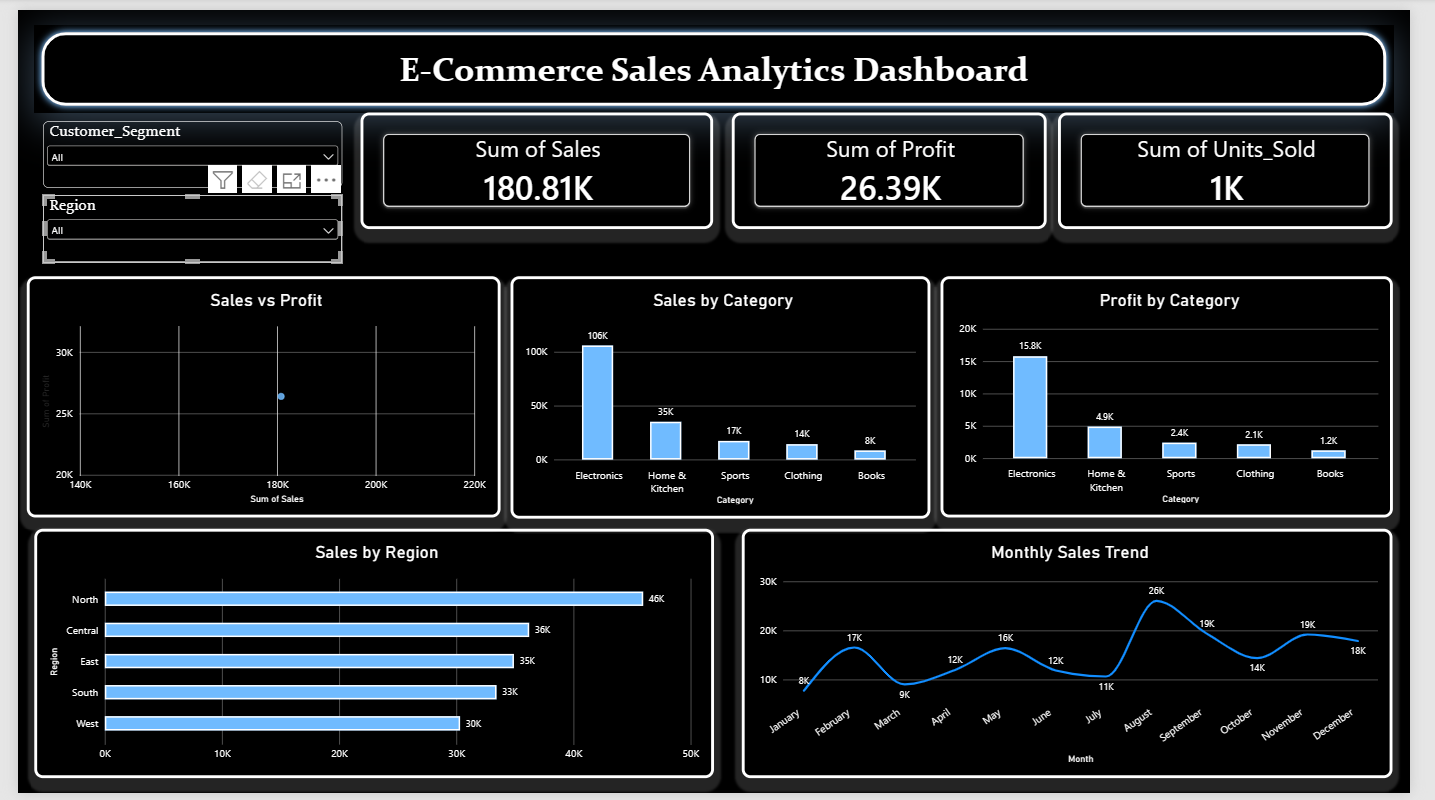

Layout of this report page (visuals, bound fields, positions):
{"tool":"powerbi","page":{"name":"Page 1","canvas":[1920,1080],"ordinal":0},"visuals":[{"type":"shape","title":"E-Commerce Sales Analytics Dashboard","box":[21.7,19.9,1874.8,121.2],"z":0},{"type":"cardVisual","fields":{"Data":["Sum(ecommerce_sales_cleaned.Sales)"]},"box":[472.3,141.2,486.8,161.1],"z":1000},{"type":"cardVisual","fields":{"Data":["Sum(ecommerce_sales_cleaned.Units_Sold)"]},"box":[1435.1,141.2,461.5,161.1],"z":3000},{"type":"clusteredColumnChart","title":"Sales by Category","fields":{"Category":["ecommerce_sales_cleaned.Category"],"Y":["Sum(ecommerce_sales_cleaned.Sales)"]},"box":[678.6,367.4,579.1,334.8],"z":4000},{"type":"clusteredBarChart","title":"Sales by Region","fields":{"Category":["ecommerce_sales_cleaned.Region"],"Y":["Sum(ecommerce_sales_cleaned.Sales)"]},"box":[21.7,714.8,937.4,343.8],"z":5000},{"type":"lineChart","title":"Monthly Sales Trend","fields":{"Category":["ecommerce_sales_cleaned.Order_Date.Variation.Date Hierarchy.Month"],"Y":["Sum(ecommerce_sales_cleaned.Sales)"]},"box":[998.9,714.8,897.6,343.8],"z":6000},{"type":"clusteredColumnChart","title":"Profit by Category","fields":{"Category":["ecommerce_sales_cleaned.Category"],"Y":["Sum(ecommerce_sales_cleaned.Profit)"]},"box":[1272.2,367.4,624.3,333],"z":7000},{"type":"scatterChart","title":"Sales vs Profit","fields":{"X":["Sum(ecommerce_sales_cleaned.Sales)"],"Y":["Sum(ecommerce_sales_cleaned.Profit)"]},"box":[12.7,367.4,653.3,333],"z":8000},{"type":"slicer","fields":{"Values":["ecommerce_sales_cleaned.Region"]},"box":[34.4,255.2,412.6,92.3],"z":9000},{"type":"slicer","fields":{"Values":["ecommerce_sales_cleaned.Customer_Segment"]},"box":[34.4,153.8,412.6,92.3],"z":10000},{"type":"cardVisual","fields":{"Data":["Sum(ecommerce_sales_cleaned.Profit)"]},"box":[984.5,141.2,434.3,161.1],"z":10001}]}

Visuals, with their boxes in screenshot pixels (x1, y1, x2, y2), scaled from the page's 1920x1080 canvas onto the 1435x800 screenshot:
"E-Commerce Sales Analytics Dashboard" shape: x1=16, y1=15, x2=1417, y2=105
cardVisual - Sum(ecommerce_sales_cleaned.Sales): x1=353, y1=105, x2=717, y2=224
cardVisual - Sum(ecommerce_sales_cleaned.Units_Sold): x1=1073, y1=105, x2=1418, y2=224
"Sales by Category" clusteredColumnChart: x1=507, y1=272, x2=940, y2=520
"Sales by Region" clusteredBarChart: x1=16, y1=529, x2=717, y2=784
"Monthly Sales Trend" lineChart: x1=747, y1=529, x2=1417, y2=784
"Profit by Category" clusteredColumnChart: x1=951, y1=272, x2=1417, y2=519
"Sales vs Profit" scatterChart: x1=9, y1=272, x2=498, y2=519
slicer - ecommerce_sales_cleaned.Region: x1=26, y1=189, x2=334, y2=257
slicer - ecommerce_sales_cleaned.Customer_Segment: x1=26, y1=114, x2=334, y2=182
cardVisual - Sum(ecommerce_sales_cleaned.Profit): x1=736, y1=105, x2=1060, y2=224
